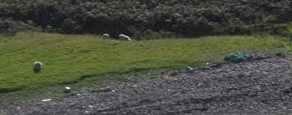scattered_barrel: (38, 83, 80, 109)
white_in_green: (213, 39, 256, 72)
